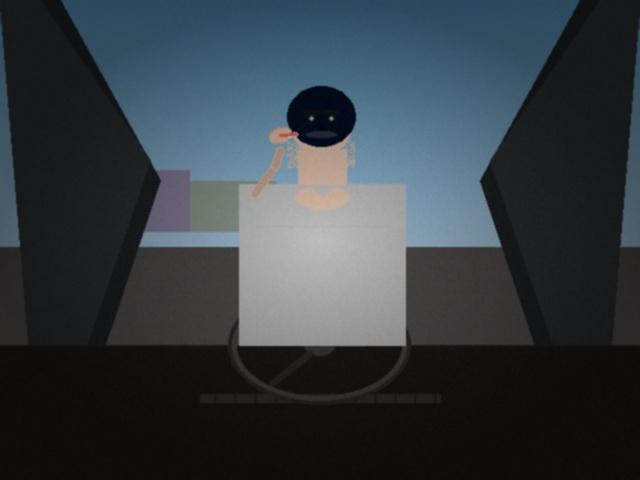smoking: (270, 120, 298, 150)
